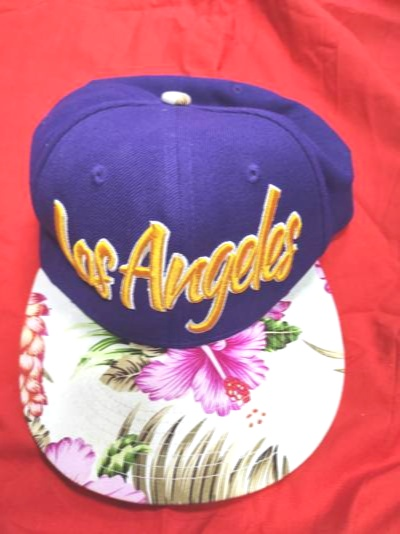Hat: (12, 55, 376, 513)
